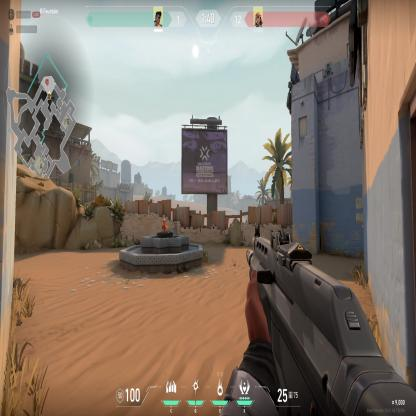enemy: (161, 217, 168, 232)
